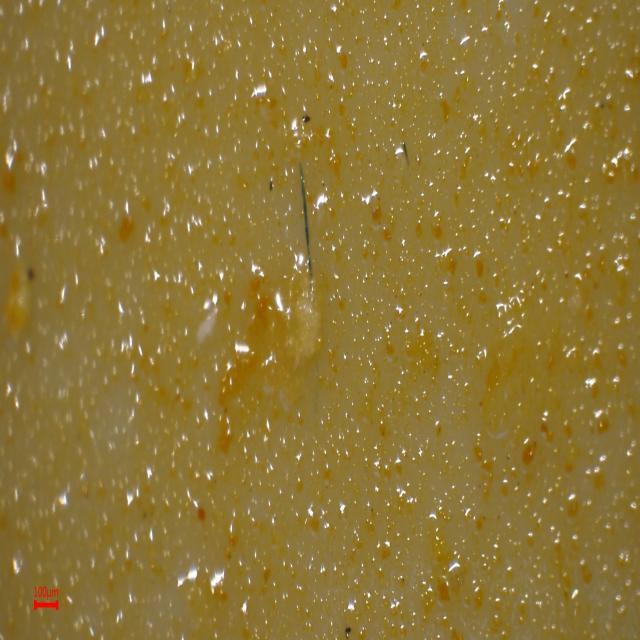fibers: (299, 160, 314, 280)
